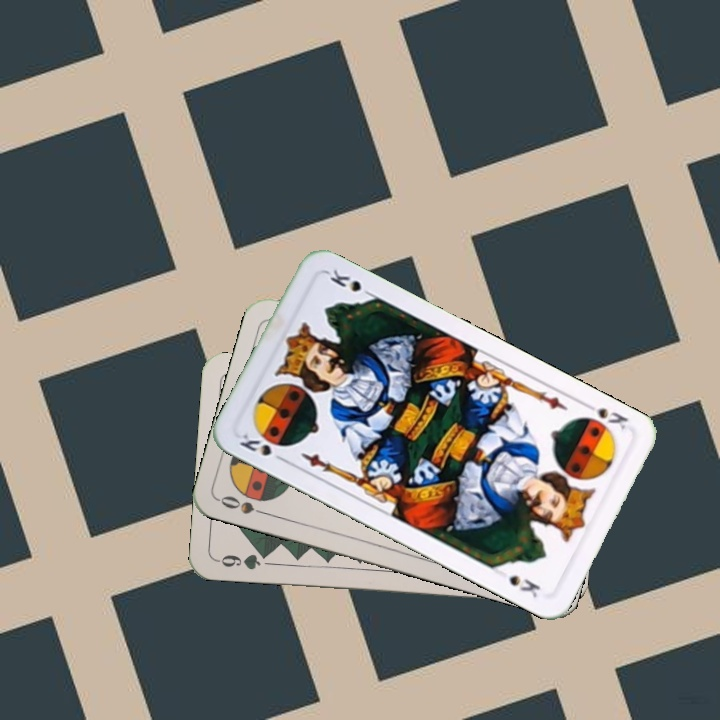G9: (213, 548, 273, 573)
SK: (235, 429, 290, 465), (579, 398, 631, 433)
SO: (216, 491, 274, 519)
